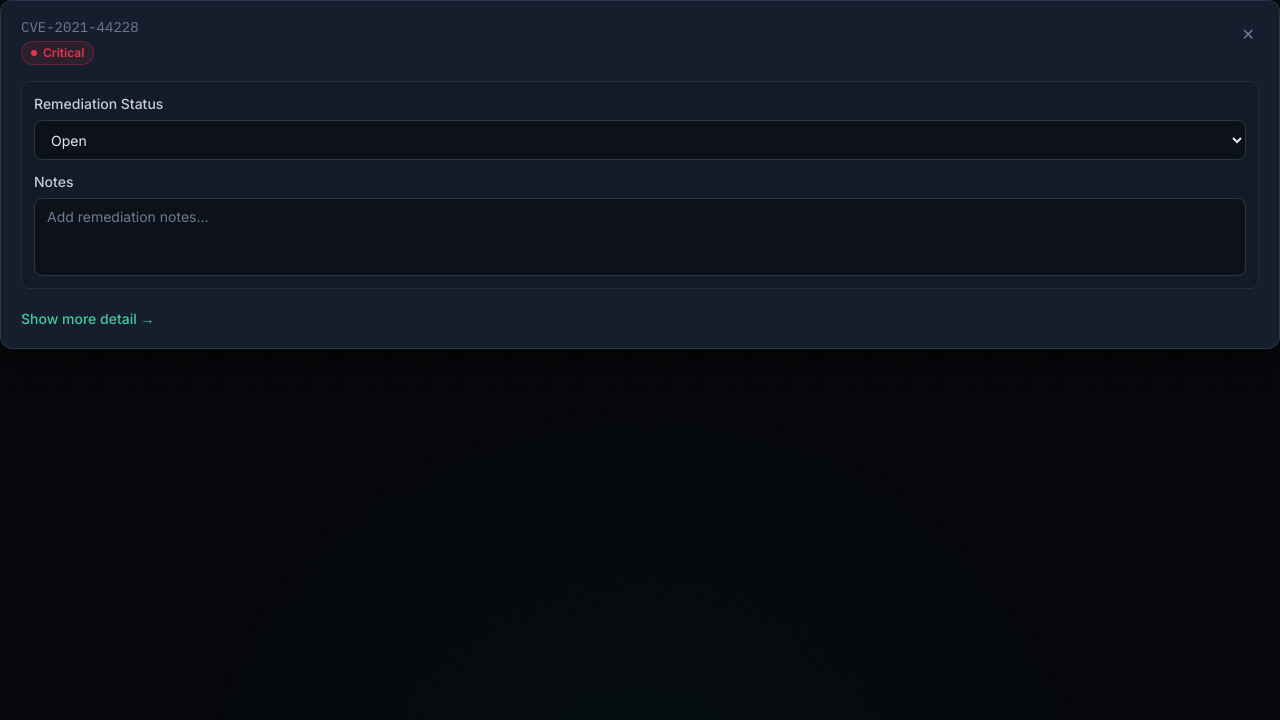
it: VulnerabilityDetailPanel CVSS disclosure › shows 'Not yet assessed' instead of a fabricated score when the backend has no CVSS data
Click the button "Show more detail →".
click(88, 319)  # box [21,309,154,329]
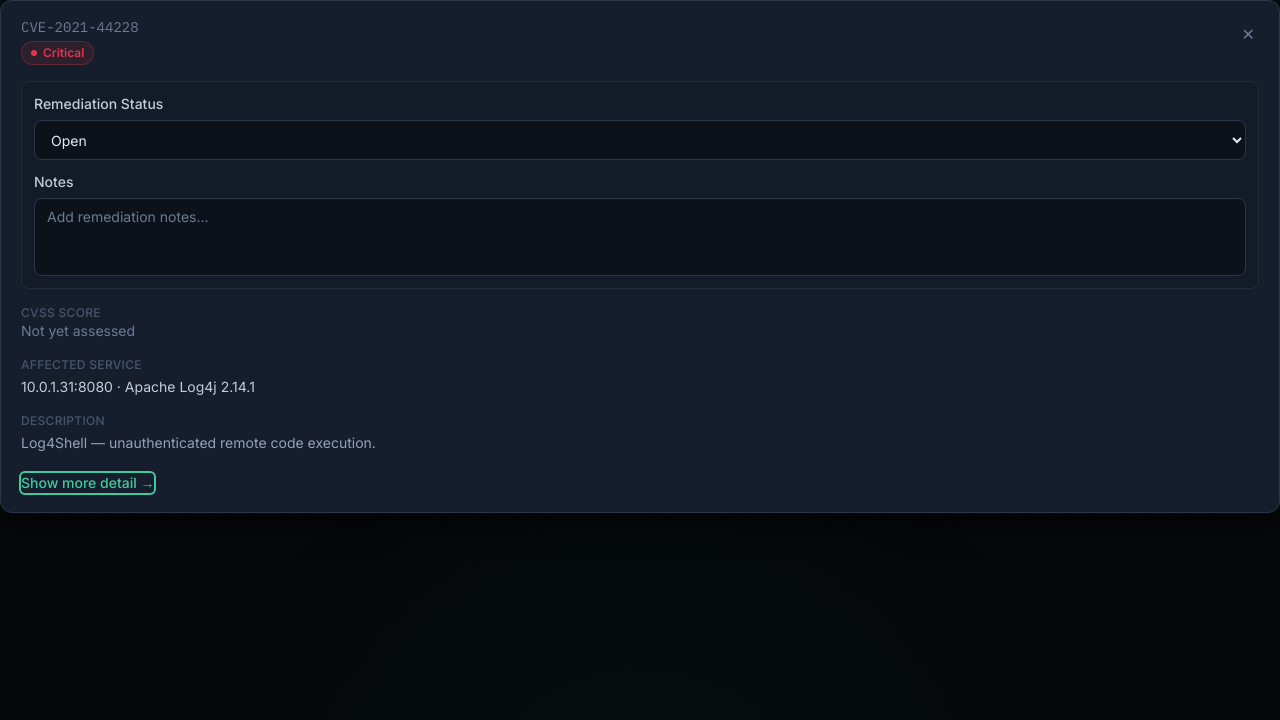
Check: the text "Not yet assessed" is shown, box [21,322,135,339]
